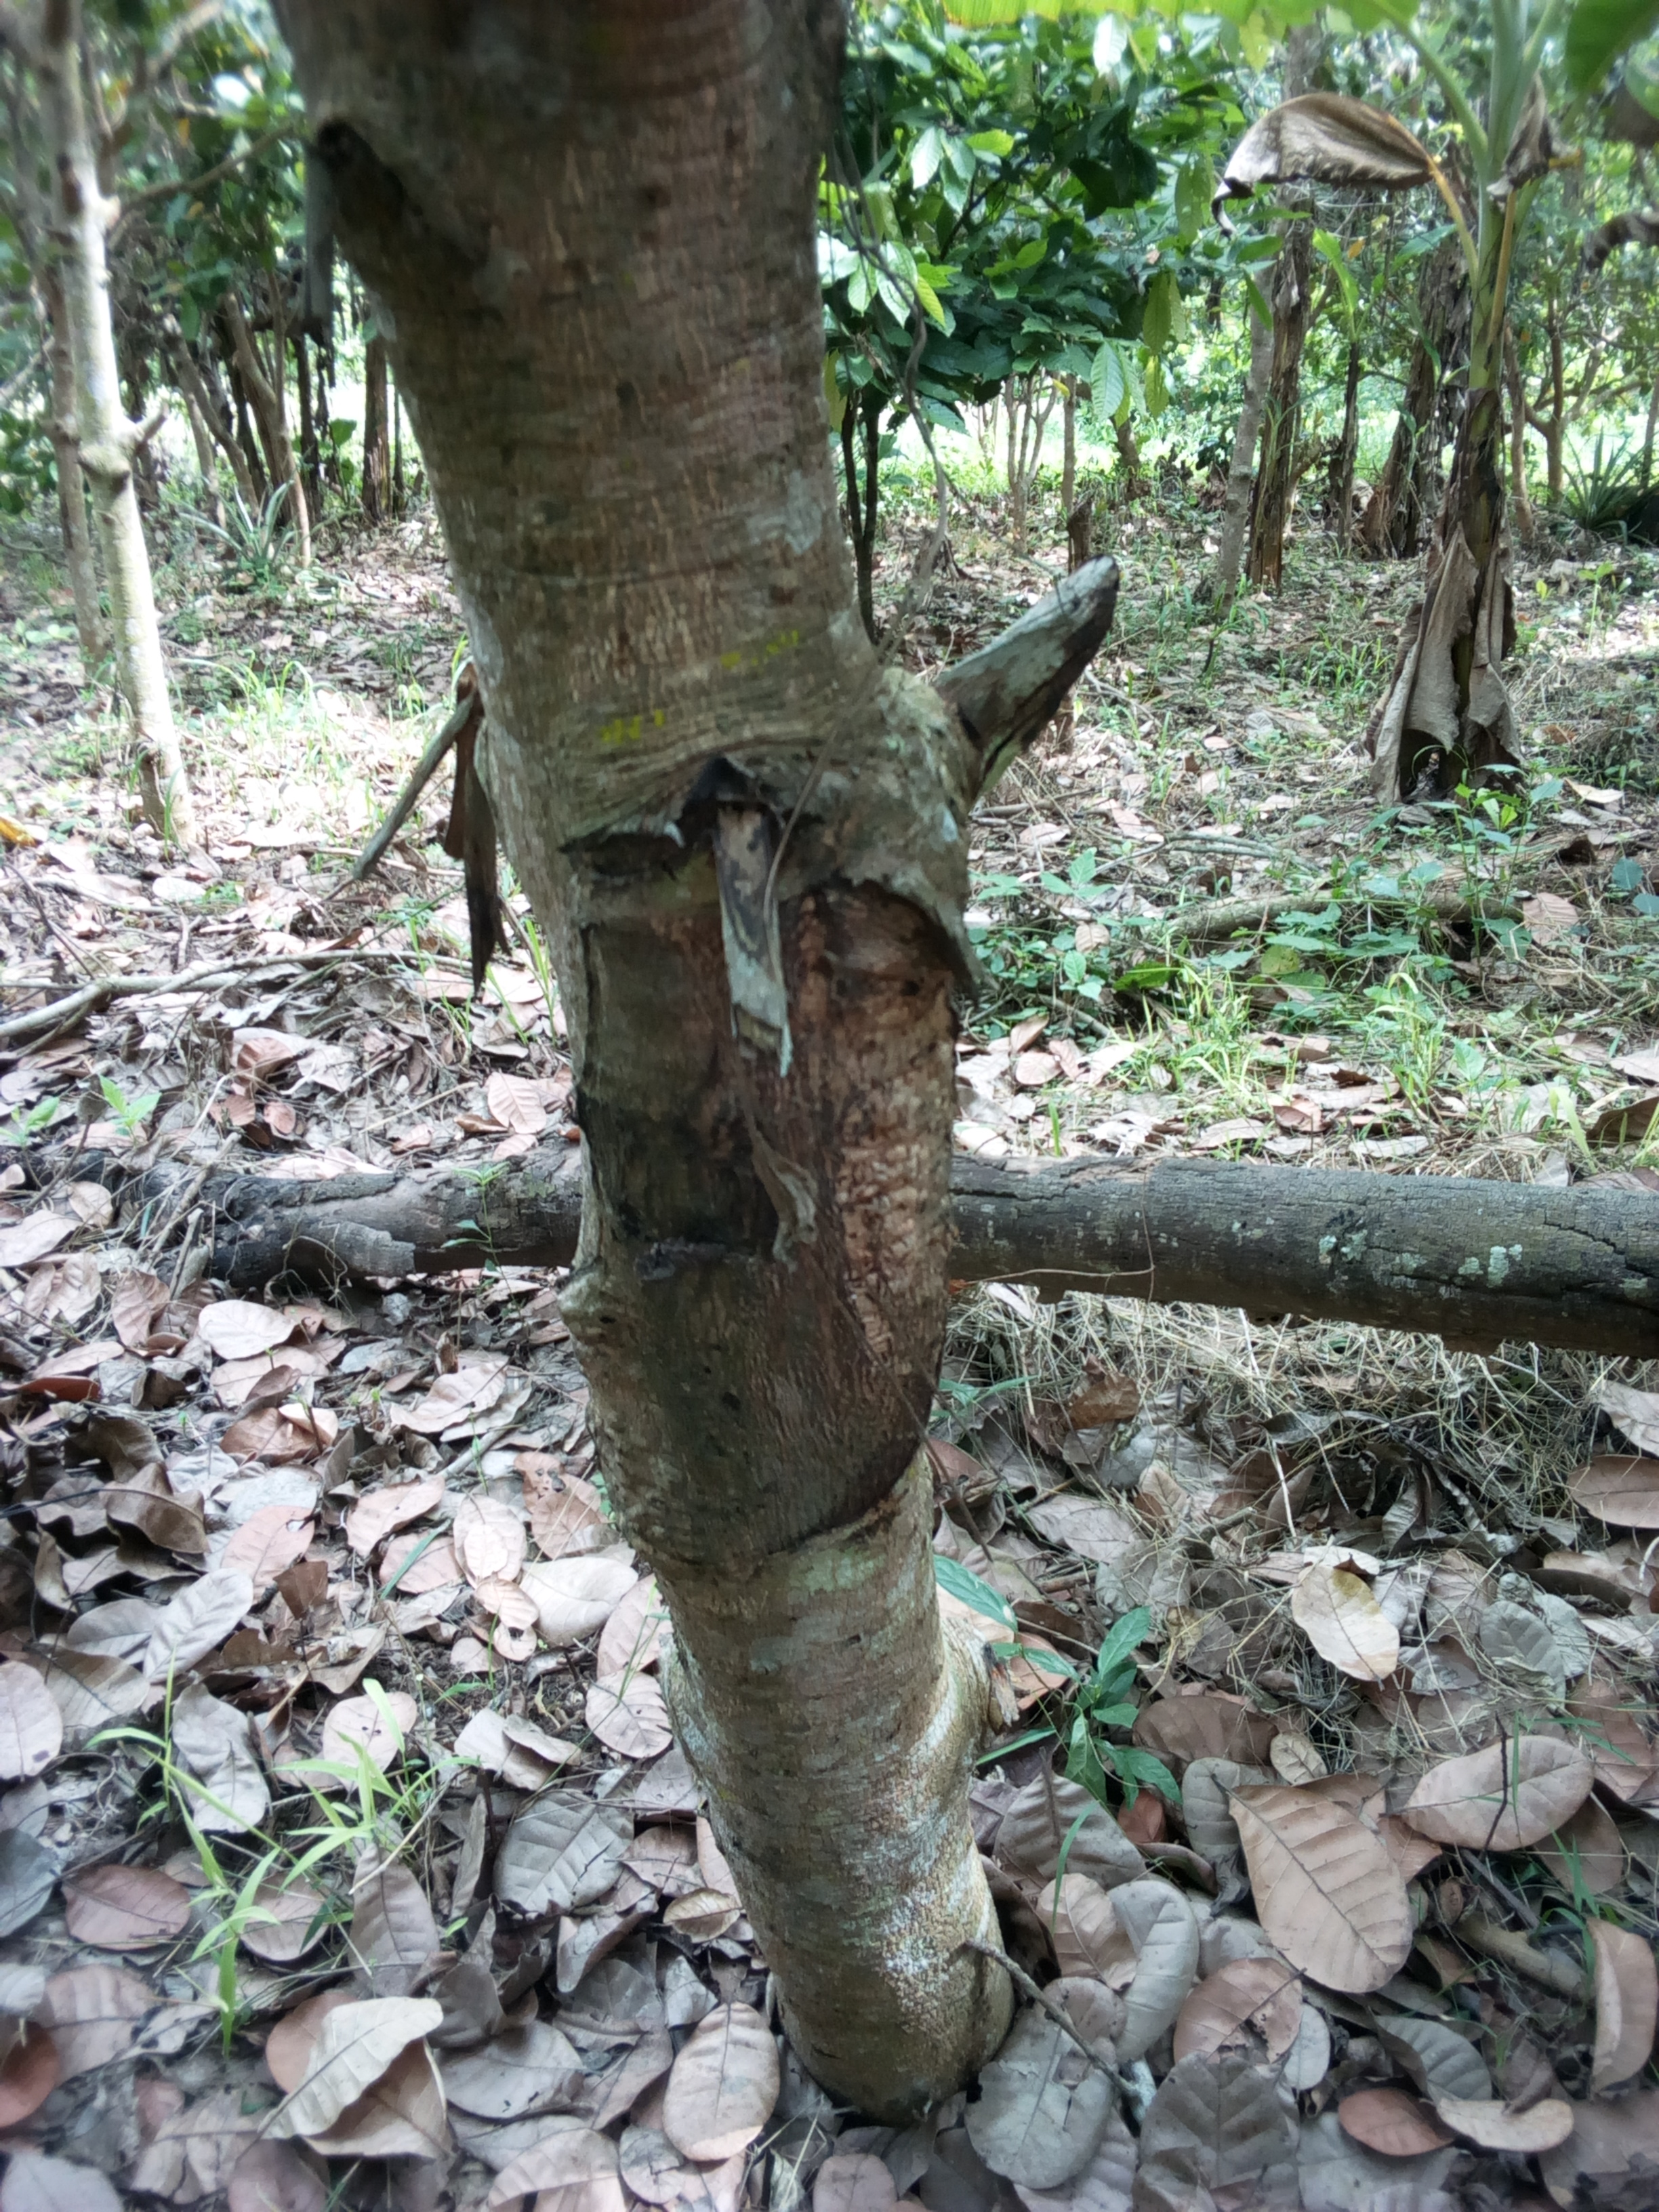ploceadorus ferrugineus: (511, 702, 988, 1529)
